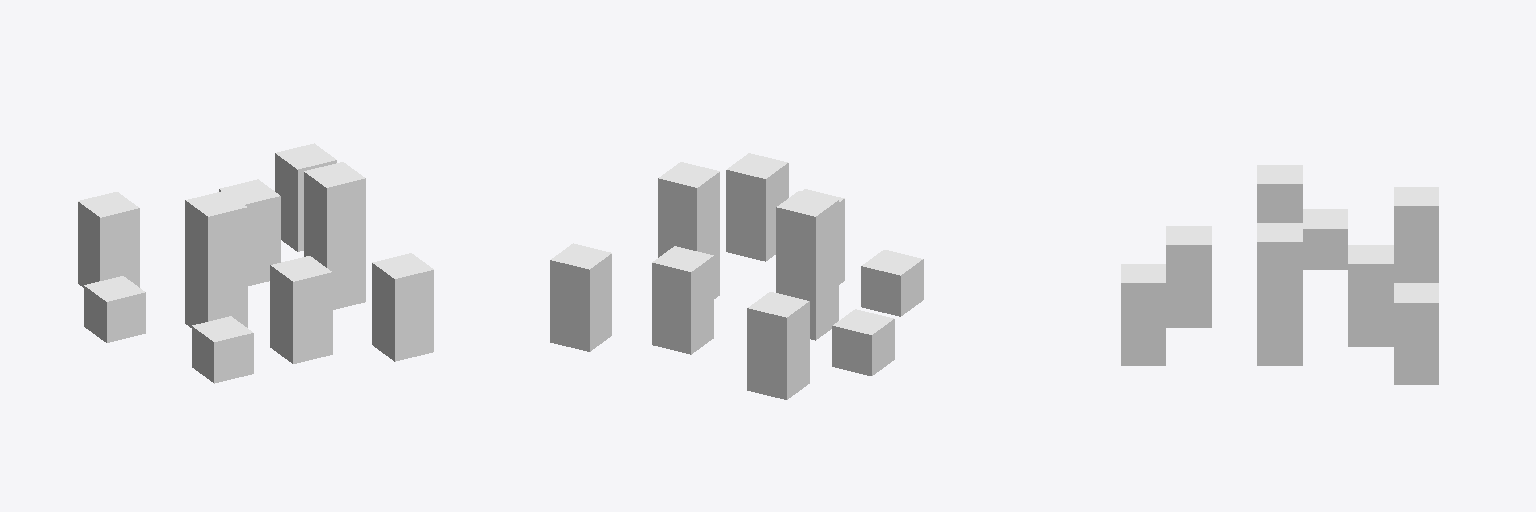
Rendered from blooming_yellow.obj.
The picture shows the model from 3 angles: view 1: azimuth 30°, elevation 25°; view 2: azimuth 150°, elevation 25°; view 3: azimuth 270°, elevation 25°; orthographic projection.
Parts seen in each view (by area): view 1: object 1; view 2: object 1; view 3: object 1.
Boxes of the visible parts, <box> form: object 1: <box>78,143,433,383</box>; object 1: <box>550,153,923,399</box>; object 1: <box>1121,165,1438,384</box>.
Size of the model in its own units: 0.7 by 0.3 by 0.7.